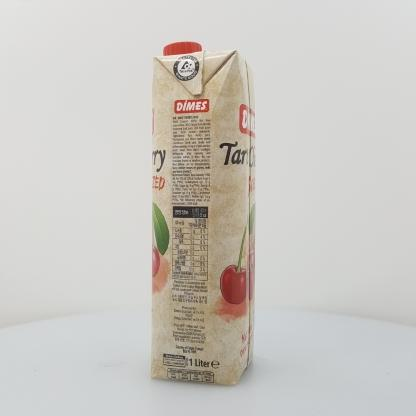DIMES--------1000ML: (150, 41, 256, 386)
